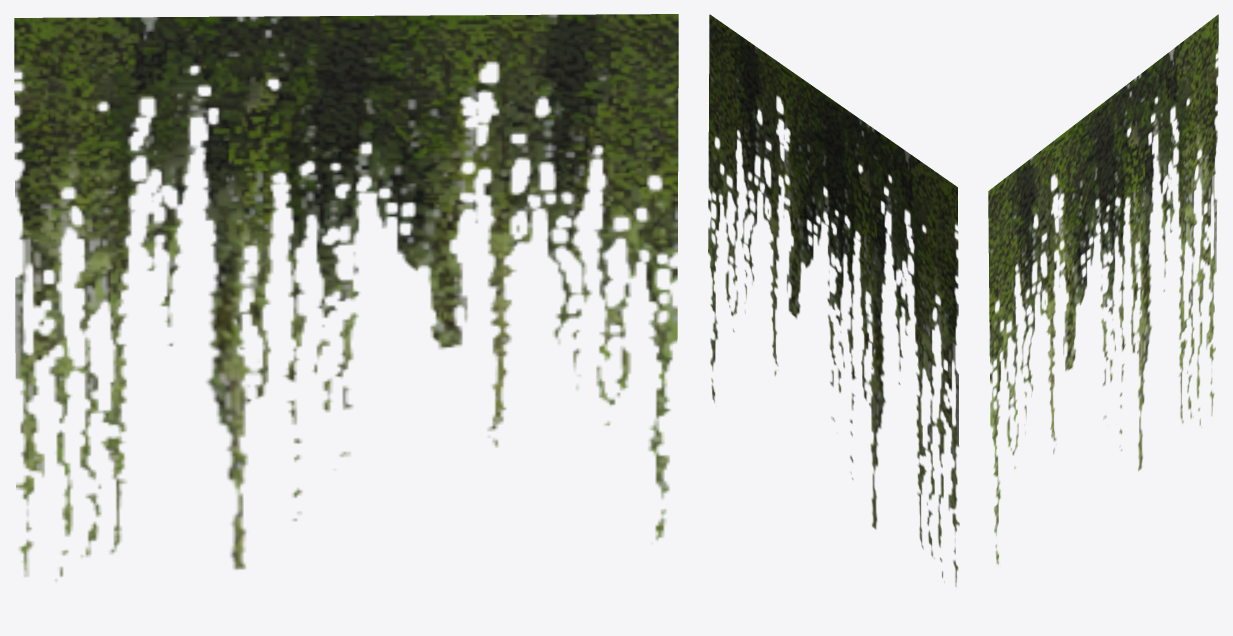
File: MountPass_1_Ivy_2.gltf
The picture shows the model from 3 angles, left to right: view 1: azimuth 30°, elevation 25°; view 2: azimuth 150°, elevation 25°; view 3: azimuth 270°, elevation 25°; orthographic projection. The views are drawn at different scales.
Visible parts, largest first — view 1: MountPass_1_Ivy_2; view 2: MountPass_1_Ivy_2; view 3: MountPass_1_Ivy_2.
Part boxes in pixels (left/top/right/bottom): MountPass_1_Ivy_2: left=14, top=14, right=678, bottom=580; MountPass_1_Ivy_2: left=708, top=14, right=959, bottom=586; MountPass_1_Ivy_2: left=988, top=14, right=1218, bottom=564.
Size of the model in its own units: 4.39 by 5 by 2.42.
Materials: 1 (1 with a texture image).
